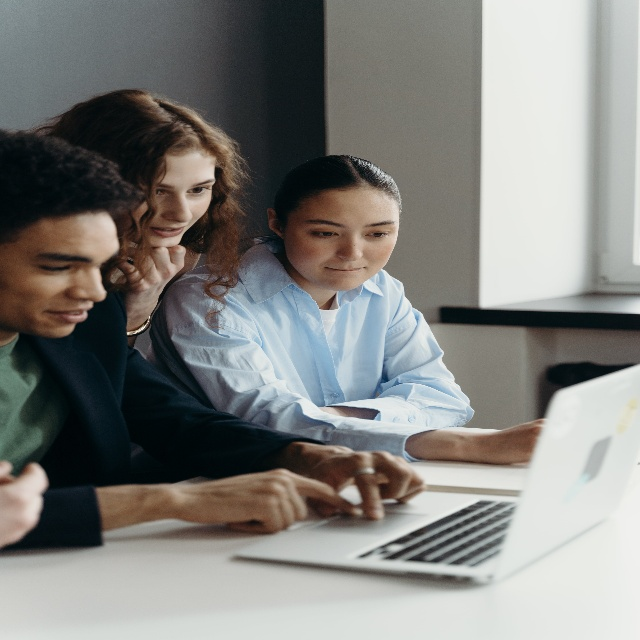Sin_guantes: (174, 477, 362, 534), (290, 442, 427, 518), (0, 461, 50, 555), (476, 423, 543, 462)
